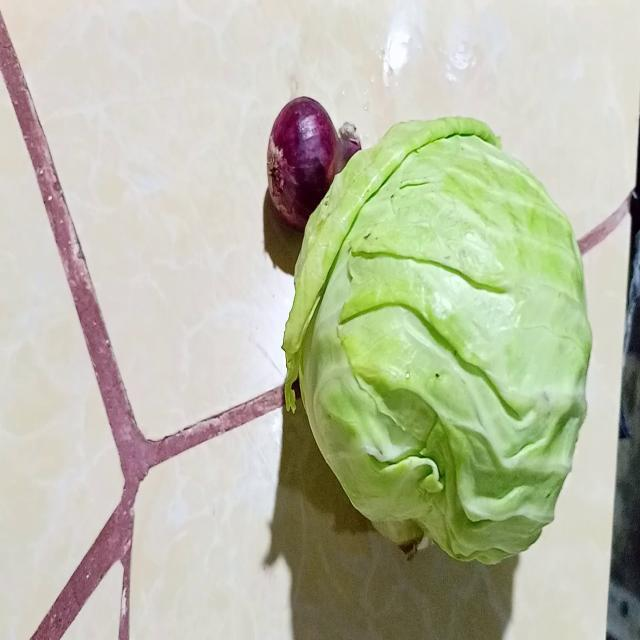cabbage: (282, 117, 593, 567)
onion: (268, 97, 362, 232)
